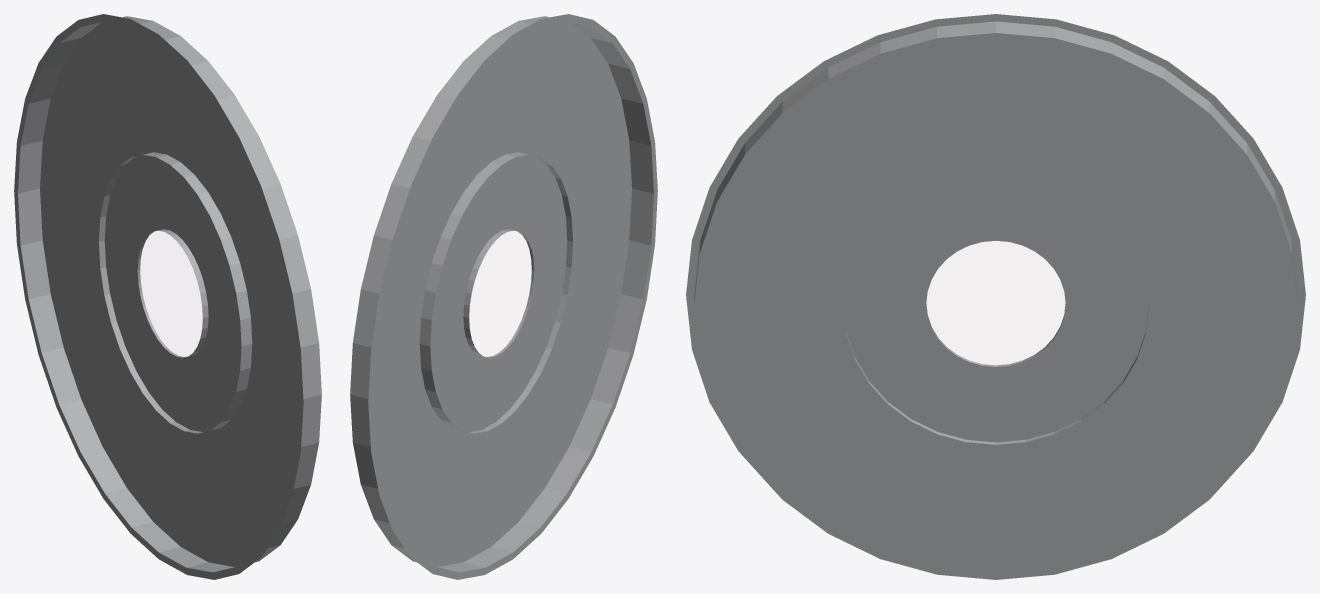
The model's file is cover-111.glb.
The picture shows the model from 3 angles, left to right: view 1: azimuth 30°, elevation 25°; view 2: azimuth 150°, elevation 25°; view 3: azimuth 270°, elevation 25°; orthographic projection. The views are drawn at different scales.
Parts seen in each view (by area): view 1: COVER_111; view 2: COVER_111; view 3: COVER_111.
Part boxes in pixels (x1=…): COVER_111: x1=14, y1=14, x2=321, y2=579; COVER_111: x1=350, y1=14, x2=657, y2=579; COVER_111: x1=686, y1=14, x2=1305, y2=579.
Size of the model in its own units: 0.0928 by 2.11 by 2.11.
Materials: 2 (1 with a texture image).
